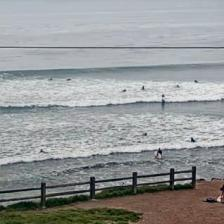surfer: (156, 148, 162, 156), (190, 137, 197, 143), (144, 132, 148, 137), (161, 94, 165, 98), (40, 148, 44, 152), (67, 78, 72, 81), (176, 85, 180, 88), (194, 80, 198, 83), (49, 77, 53, 80), (122, 90, 127, 92), (142, 86, 144, 90)
